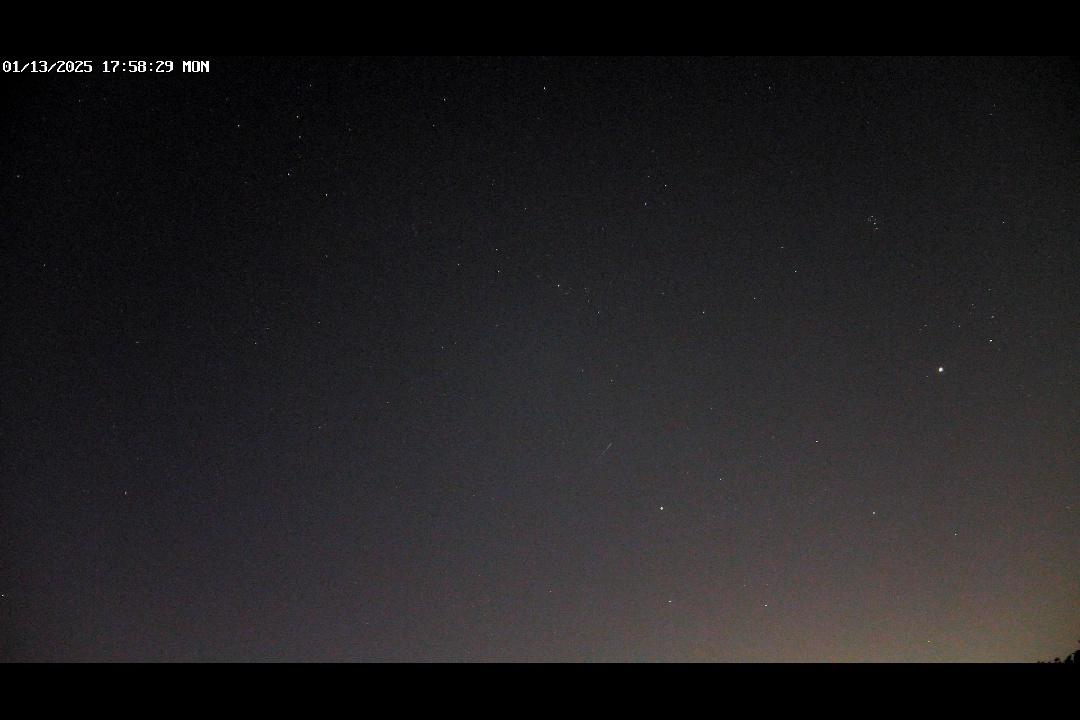Plane: (594, 430, 622, 468)
